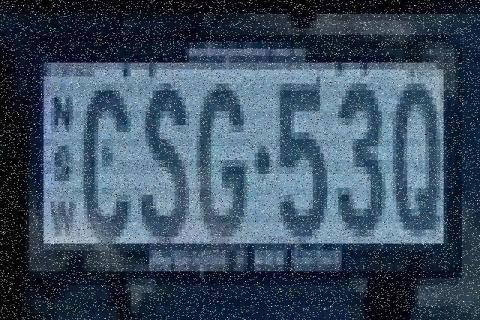LicensePlate: (29, 32, 463, 295)
